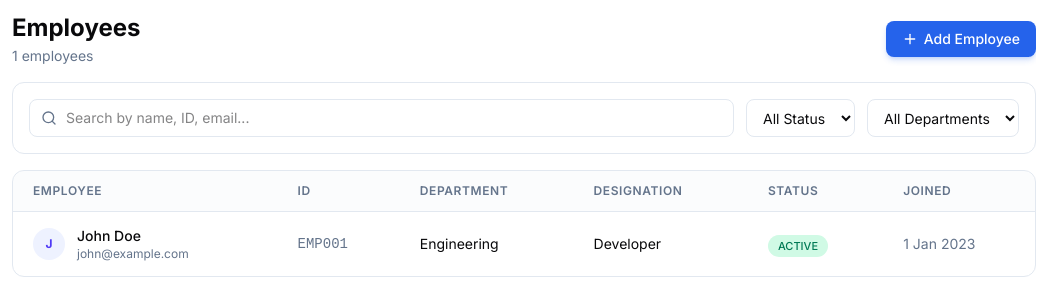
it: Employees Page › should clear filters
Type "Jane" into the field with placeholder "Search by name, ID, email...".
click(382, 118); type("Jane")  # box [29,99,734,137]
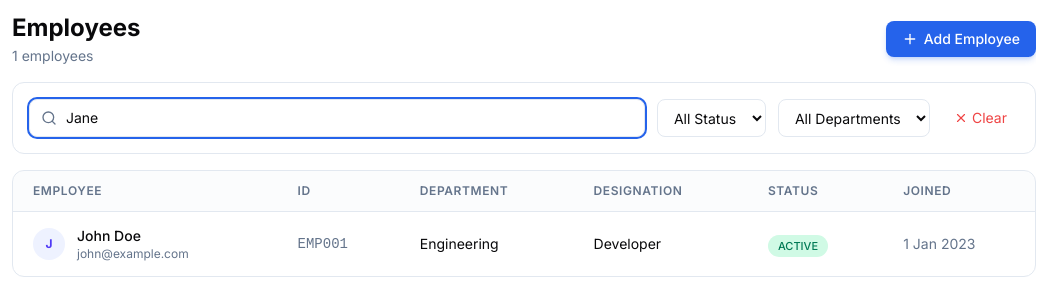
Click the button "Clear".
click(980, 118)  # box [942,99,1019,137]
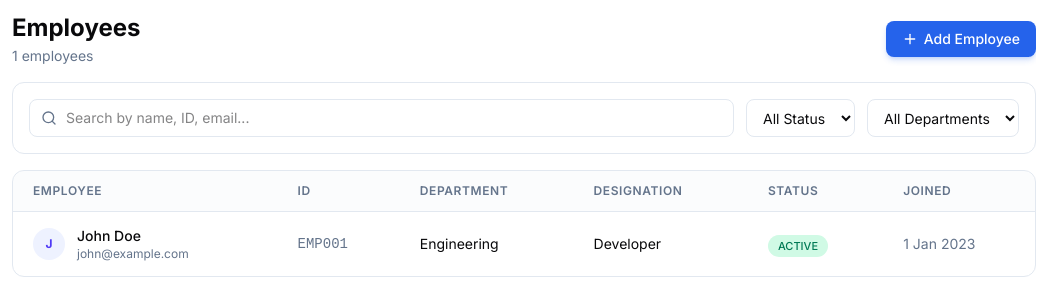
Check: the field with placeholder "Search by name, ID, email..." is empty, box [29,99,734,137]
Check: the button "Clear" is gone
